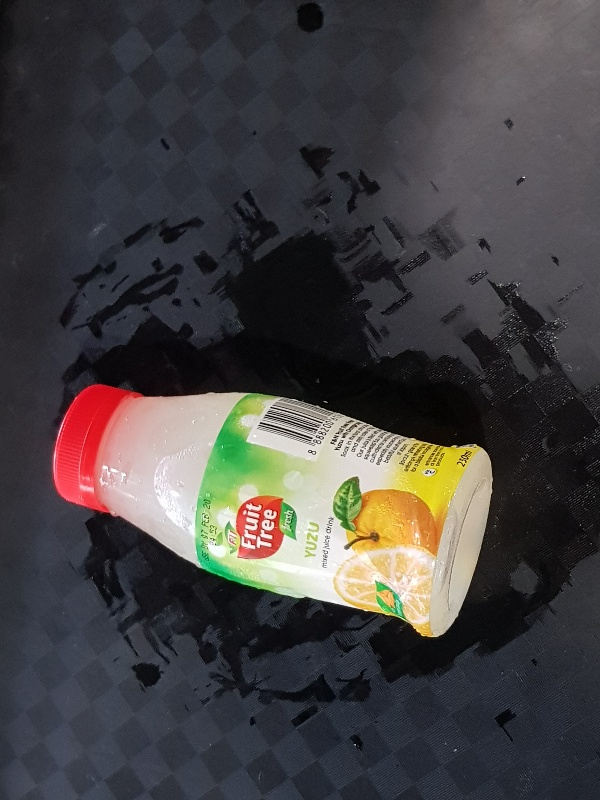Fruit Tree Yuzu Mixed Juice Drink: (52, 383, 493, 637)
